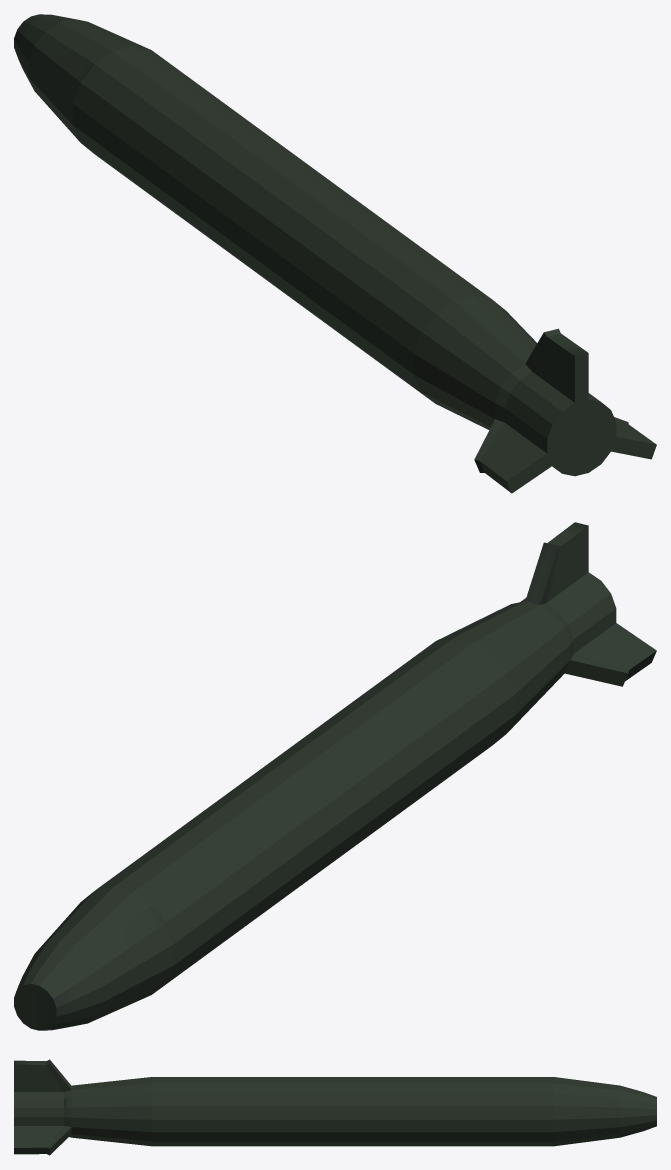
The model's file is Bomb.fbx.
3 views of the same model, one above another, from view 1: azimuth 30°, elevation 25°; view 2: azimuth 150°, elevation 25°; view 3: azimuth 270°, elevation 25° (orthographic). The views are drawn at different scales.
Visible parts, largest first — view 1: cylinder_288; view 2: cylinder_288; view 3: cylinder_288.
Boxes of the visible parts, x1,y1,x2,y2 form: cylinder_288: [14, 14, 656, 493]; cylinder_288: [14, 522, 656, 1030]; cylinder_288: [14, 1059, 656, 1155].
Size of the model in its own units: 16.59 by 14.24 by 102.
